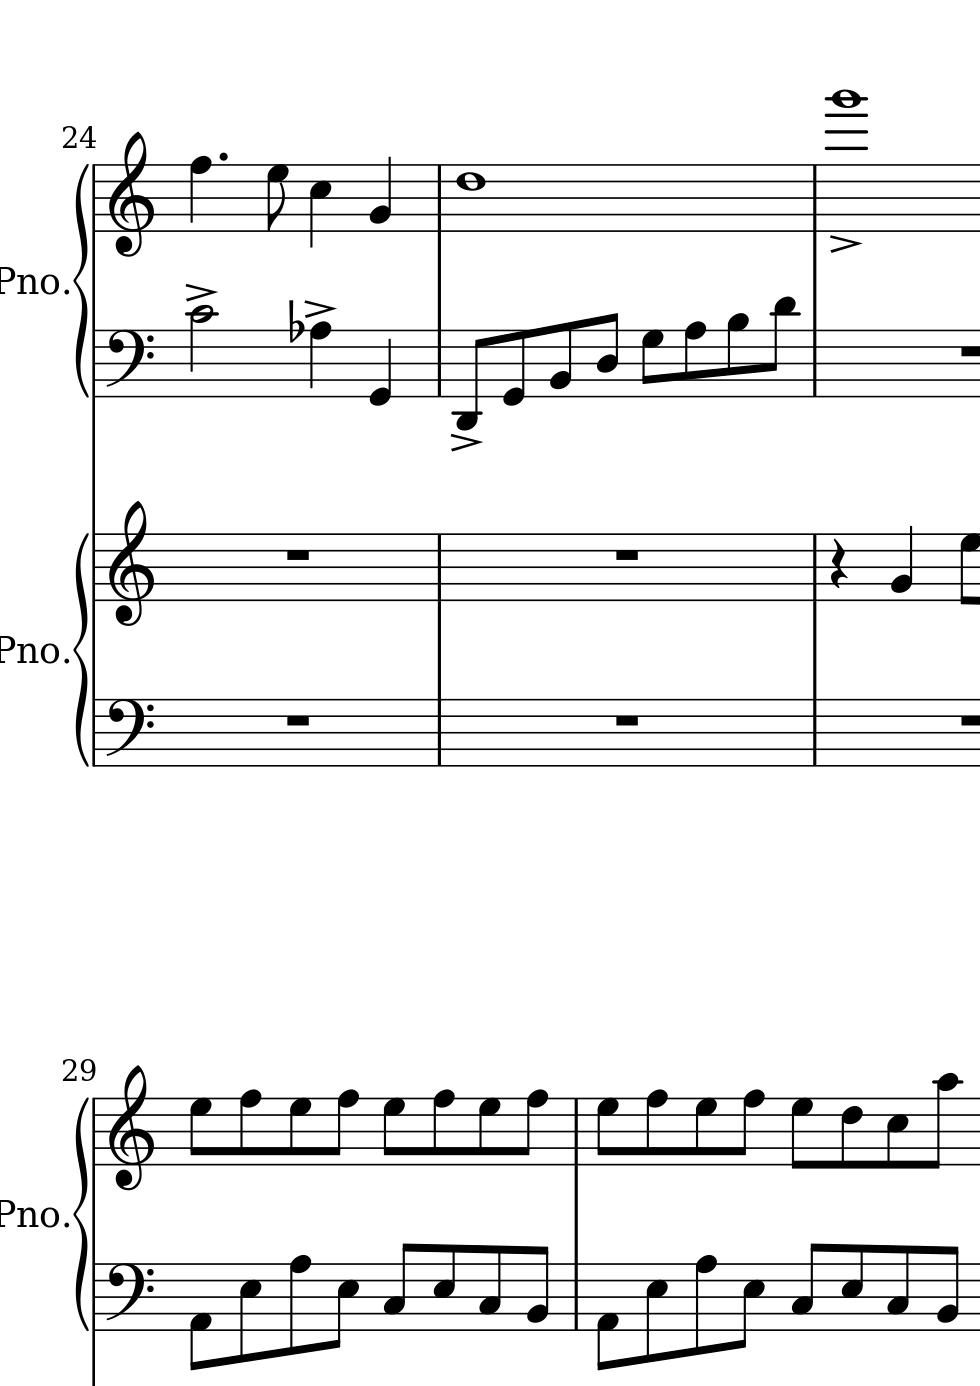1_16: (825, 87, 867, 235)
1_6: (454, 162, 486, 236)
2: (60, 123, 78, 151), (60, 1056, 78, 1084)
2_10: (186, 304, 217, 400)
4: (78, 124, 97, 152)
4_0: (367, 328, 393, 408)
4_2: (889, 524, 914, 603), (368, 155, 393, 233)
4_5: (307, 163, 332, 250)
4_8: (307, 321, 335, 400), (187, 154, 212, 235)
8_-3: (453, 329, 487, 429)
8_0: (500, 327, 527, 407)
8_1: (594, 1261, 620, 1372), (187, 1262, 212, 1371)
8_10: (926, 1072, 960, 1172)
8_11: (763, 295, 797, 400)
8_2: (525, 1245, 552, 1333), (934, 1244, 960, 1334), (547, 320, 573, 400)
8_3: (789, 1241, 822, 1333), (382, 1242, 415, 1333), (883, 1243, 911, 1334), (476, 1244, 503, 1333)
8_4: (594, 312, 620, 400)
8_5: (734, 1261, 766, 1350), (642, 1260, 668, 1364), (237, 1260, 262, 1364), (329, 1261, 358, 1350), (430, 1242, 457, 1333), (838, 1242, 864, 1333), (883, 1096, 909, 1171)
8_6: (838, 1096, 863, 1171)
8_7: (789, 1096, 813, 1171), (187, 1096, 212, 1166), (381, 1096, 406, 1166), (638, 328, 663, 399), (287, 1096, 312, 1166), (476, 1096, 501, 1166), (595, 1096, 619, 1166), (693, 1096, 717, 1166), (265, 163, 288, 232), (958, 531, 978, 607)
8_8: (692, 1253, 717, 1357), (326, 1088, 358, 1168), (731, 1088, 764, 1168), (515, 1089, 548, 1166), (286, 1255, 310, 1356), (428, 1088, 455, 1168), (237, 1088, 262, 1168), (681, 320, 706, 399), (643, 1088, 668, 1166)
8_9: (725, 313, 749, 400)
9: (78, 1056, 97, 1083)
Accent_above: (826, 232, 863, 255), (181, 281, 217, 302), (448, 432, 484, 453), (303, 297, 337, 319)
Brace: (72, 164, 90, 397), (73, 531, 91, 764), (72, 1093, 89, 1331)
Fclef: (103, 328, 156, 401), (103, 697, 155, 766), (102, 1261, 154, 1330)
Flat: (286, 298, 304, 346)
Gclef: (106, 1064, 156, 1192), (107, 130, 156, 259), (106, 498, 154, 627)
Pno: (1, 635, 62, 670), (1, 1196, 59, 1232), (1, 264, 59, 296)
Rests1: (281, 710, 314, 731), (281, 546, 313, 564), (611, 710, 642, 729), (611, 546, 642, 563)
Rests4: (827, 538, 848, 592)
Single_barline: (430, 329, 448, 397), (805, 165, 823, 232), (430, 165, 448, 231), (430, 534, 448, 600), (568, 1098, 585, 1166), (567, 1263, 584, 1330), (430, 700, 447, 766), (806, 330, 822, 397), (806, 534, 822, 600), (806, 700, 822, 766), (88, 165, 102, 233), (88, 330, 102, 398), (88, 534, 102, 602), (88, 1099, 101, 1166), (88, 699, 101, 766), (89, 1263, 102, 1330)
dot: (215, 151, 229, 164)
